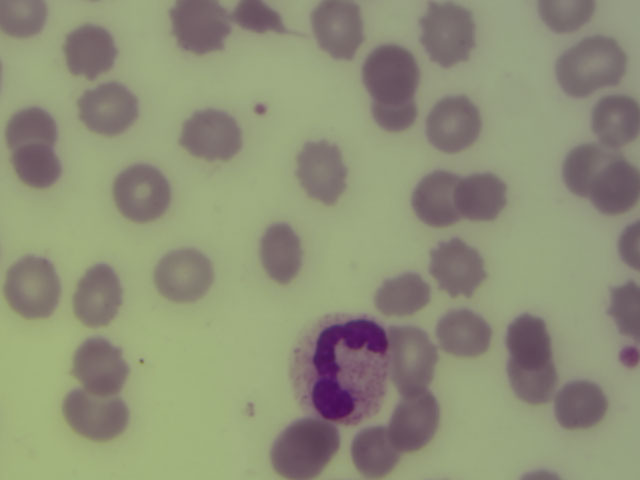Platelets: (618, 347, 638, 368), (253, 104, 268, 115)
RBC: (56, 383, 133, 439), (270, 417, 336, 478), (551, 36, 622, 92), (157, 249, 220, 308), (428, 238, 489, 298), (412, 169, 477, 225), (4, 256, 60, 320), (79, 83, 142, 137), (421, 6, 476, 66), (391, 392, 443, 453), (168, 2, 231, 52), (307, 2, 362, 59), (75, 340, 133, 393), (73, 263, 121, 323), (262, 223, 309, 284), (590, 158, 640, 215), (365, 47, 415, 102), (440, 306, 493, 357), (502, 312, 551, 367), (182, 113, 241, 158), (391, 333, 436, 392), (118, 167, 169, 219), (67, 28, 118, 80), (432, 96, 479, 149), (351, 427, 400, 477), (557, 141, 605, 192), (507, 358, 560, 404), (376, 88, 422, 140), (299, 148, 344, 201), (588, 94, 635, 144), (555, 381, 605, 428), (7, 110, 62, 152), (15, 145, 66, 190), (462, 178, 512, 219), (377, 276, 431, 313), (607, 278, 640, 337), (539, 1, 595, 35), (231, 3, 281, 33), (618, 222, 640, 271), (516, 465, 562, 480)
WBC: (286, 306, 393, 424)
